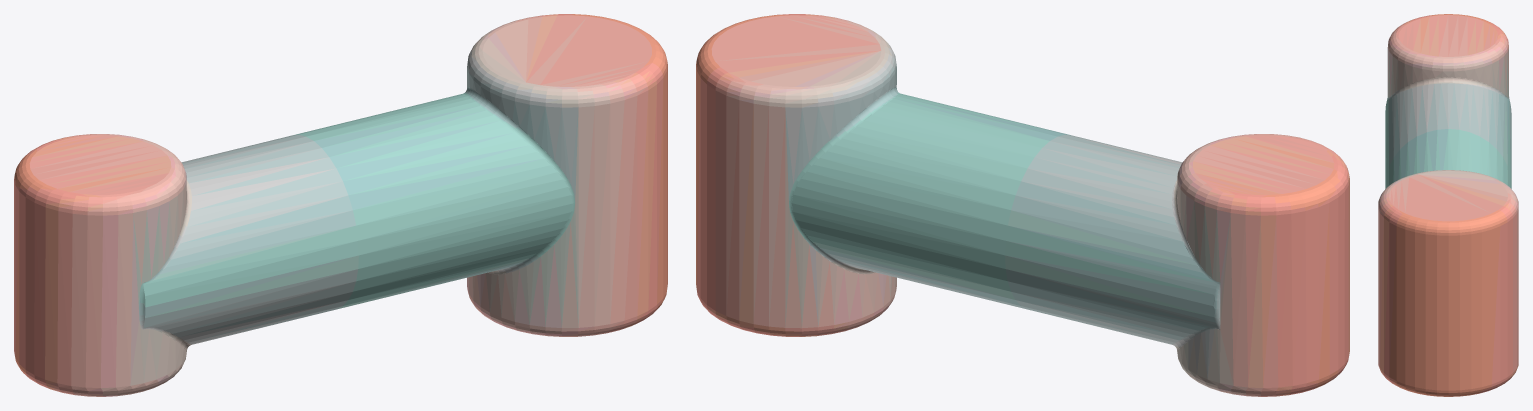
The model's file is UnitreeZ1Link2.dae.
The picture shows the model from 3 angles, left to right: view 1: azimuth 30°, elevation 25°; view 2: azimuth 150°, elevation 25°; view 3: azimuth 270°, elevation 25°; orthographic projection. The views are drawn at different scales.
Visible parts, largest first — view 1: UnitreeZ1Link2; view 2: UnitreeZ1Link2; view 3: UnitreeZ1Link2.
Part boxes in pixels (bbox=[...]): UnitreeZ1Link2: bbox=[14, 14, 667, 396]; UnitreeZ1Link2: bbox=[696, 14, 1349, 396]; UnitreeZ1Link2: bbox=[1378, 14, 1518, 396].
Bounding box in the file's own units: 0.3282 × 0.0905 × 0.124.
